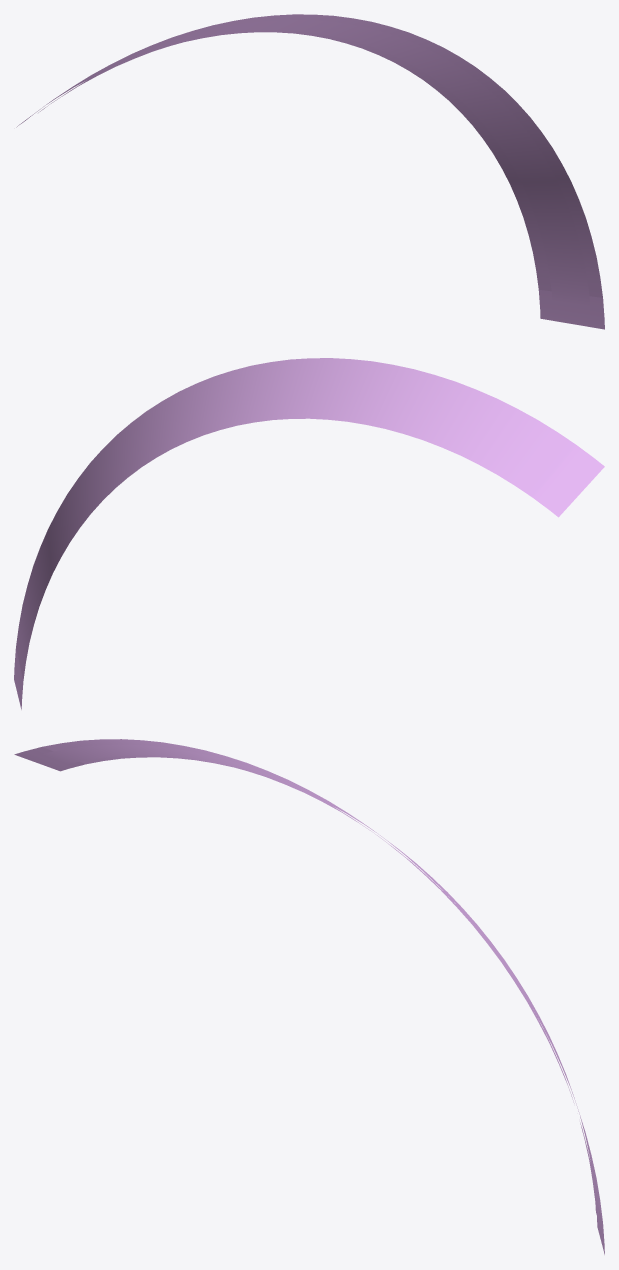
The model's file is Mesh_Note_20.fbx.
3 renders of one model, top to bottom at view 1: azimuth 30°, elevation 25°; view 2: azimuth 150°, elevation 25°; view 3: azimuth 330°, elevation 25°, orthographic.
Visible parts, largest first — view 1: Mesh_Note_20; view 2: Mesh_Note_20; view 3: Mesh_Note_20.
Part boxes in pixels (left/top/right/bottom): Mesh_Note_20: left=16, top=14, right=604, bottom=329; Mesh_Note_20: left=14, top=358, right=604, bottom=709; Mesh_Note_20: left=14, top=739, right=604, bottom=1254.
Bounding box in the file's own units: 2.63 × 1.74 × 0.2236.
